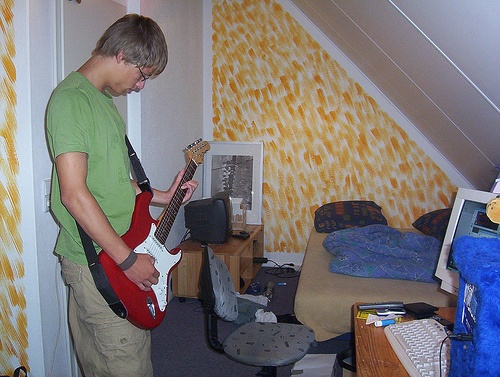head: (100, 13, 167, 98)
person: (44, 10, 211, 377)
